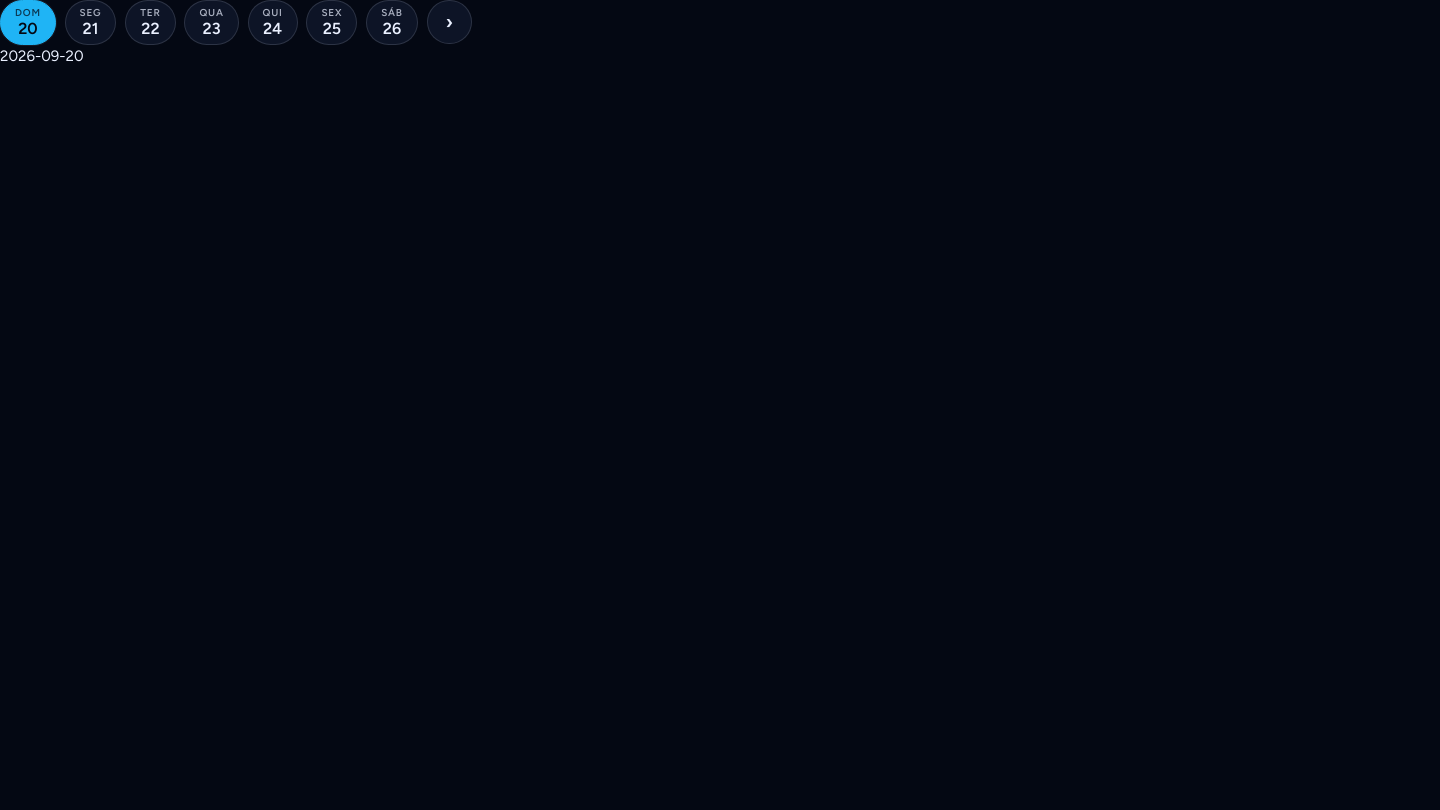
DateSelector › abre o calendário, respeita os limites e navega entre meses
Click the button named "Mais datas" at (449, 22), box top-left (427, 0), bottom-right (472, 44)
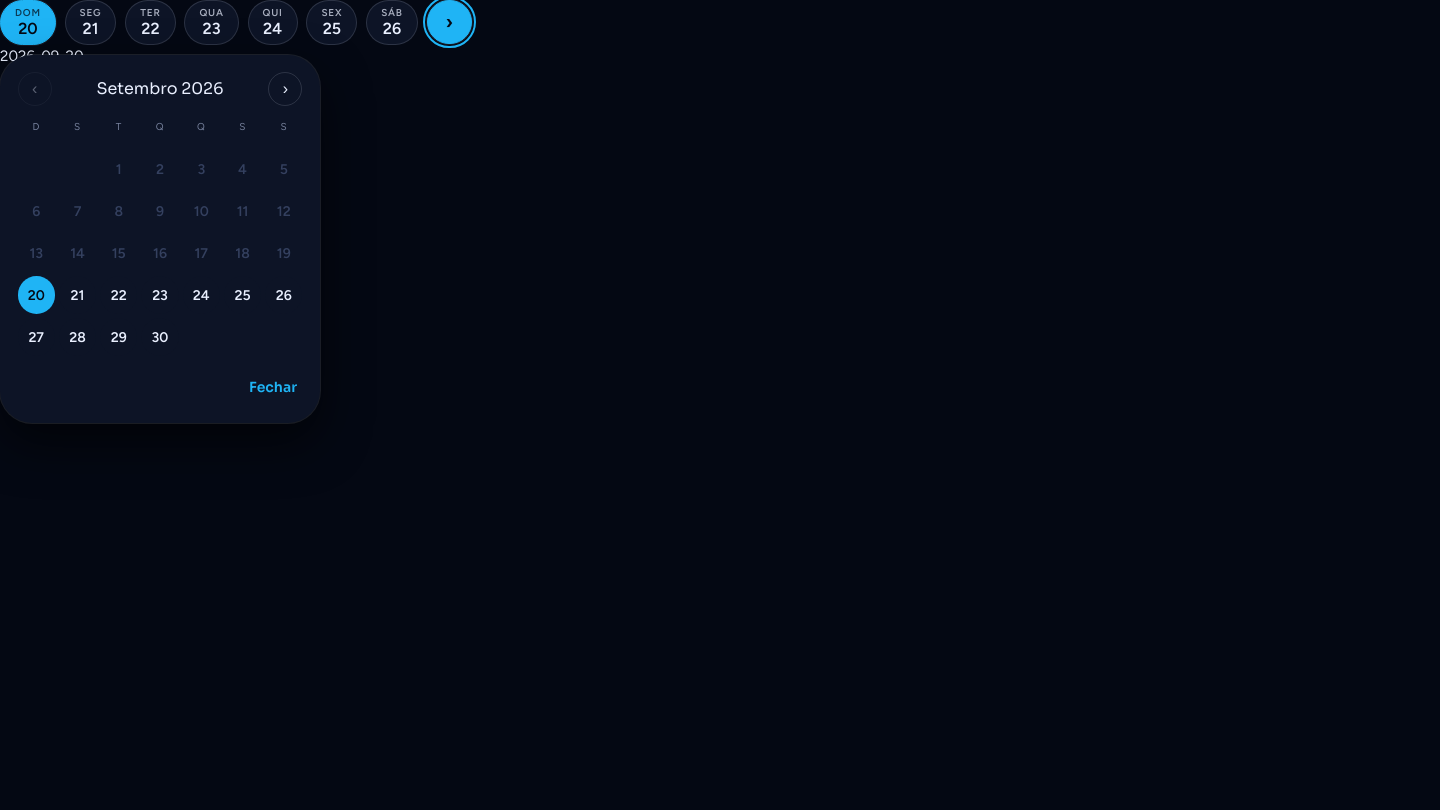
Expected: the dialog named "Calendário" shows "Setembro 2026", top-left (96, 78), bottom-right (224, 99)
Expected: the button named "Mês anterior" is disabled, top-left (18, 72), bottom-right (52, 106)
Expected: the button named "19/09/2026" is disabled, top-left (265, 234), bottom-right (302, 272)
Click the button named "Próximo mês" at (285, 89), box top-left (268, 72), bottom-right (302, 106)
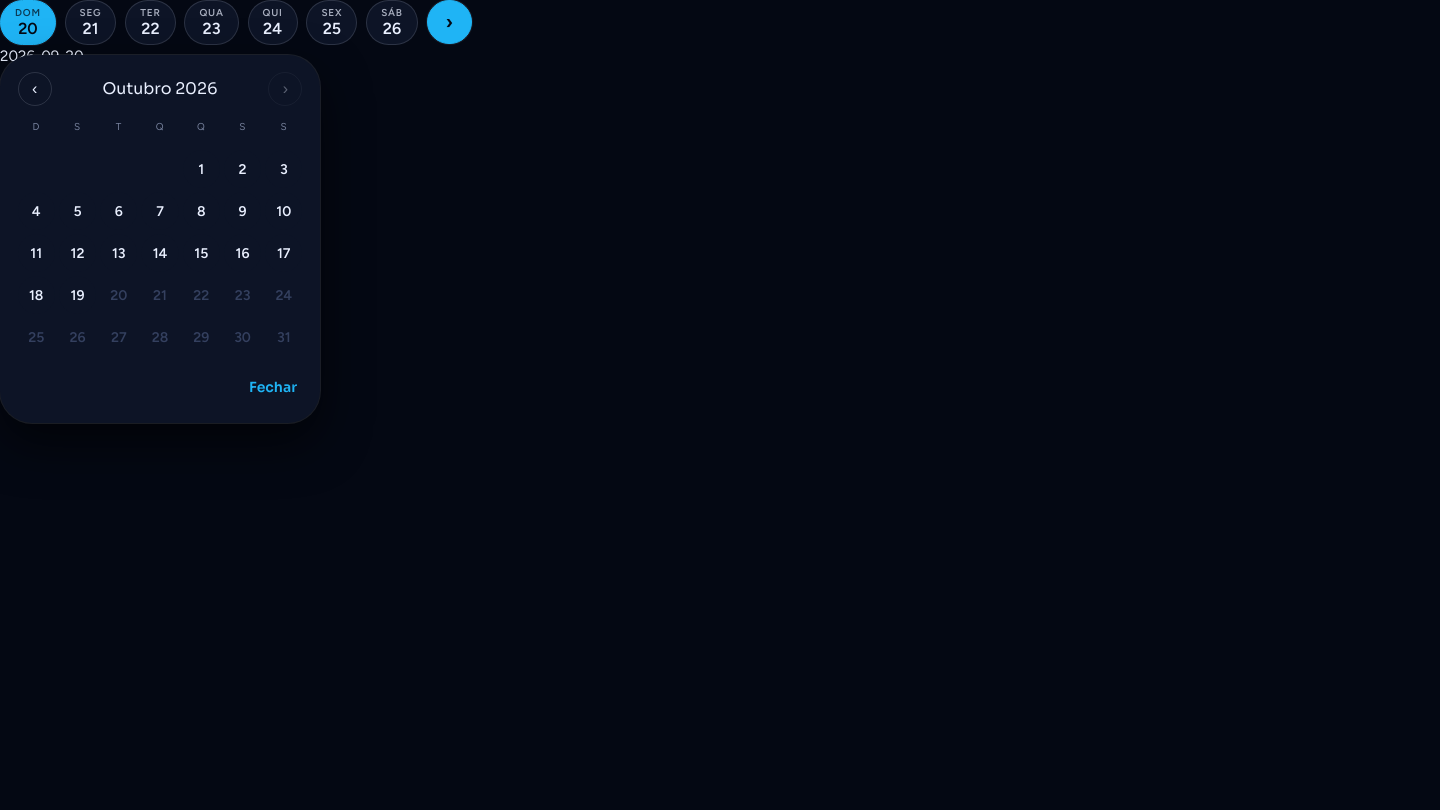
Expected: the dialog named "Calendário" shows "Outubro 2026", top-left (102, 78), bottom-right (217, 99)
Expected: the button named "20/10/2026" is disabled, top-left (100, 276), bottom-right (137, 314)
Click the button named "15/10/2026" at (201, 253), box top-left (183, 234), bottom-right (220, 272)
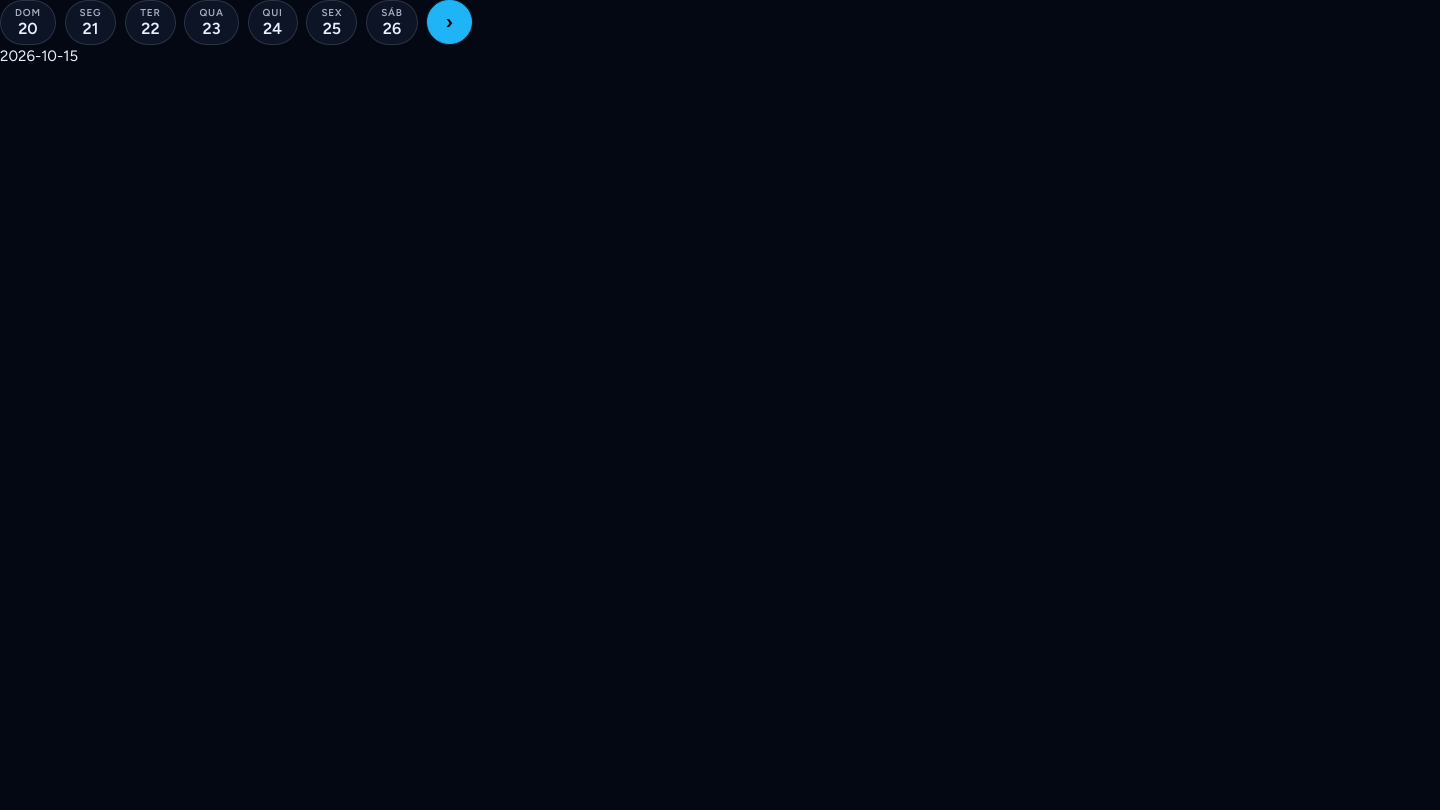
Expected: the text "2026-10-15" is shown, top-left (0, 47), bottom-right (78, 65)
Expected: the dialog "Calendário" is gone
